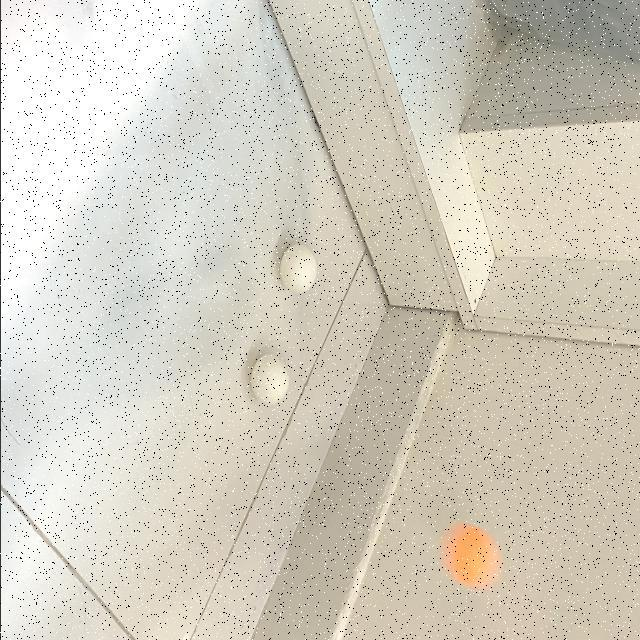ping-pong-ball: (443, 526, 492, 588), (249, 356, 289, 406), (280, 247, 316, 293)
